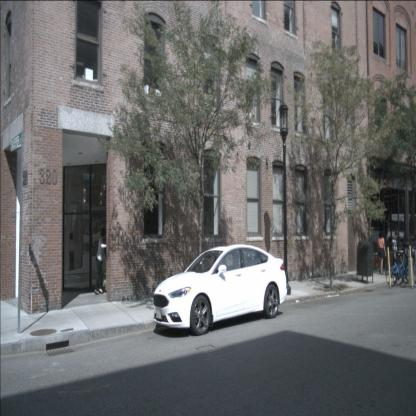human-pedestrian-adult: (94, 227, 109, 295), (376, 231, 386, 275), (391, 230, 399, 256)
vehicle-car: (154, 244, 288, 336)
